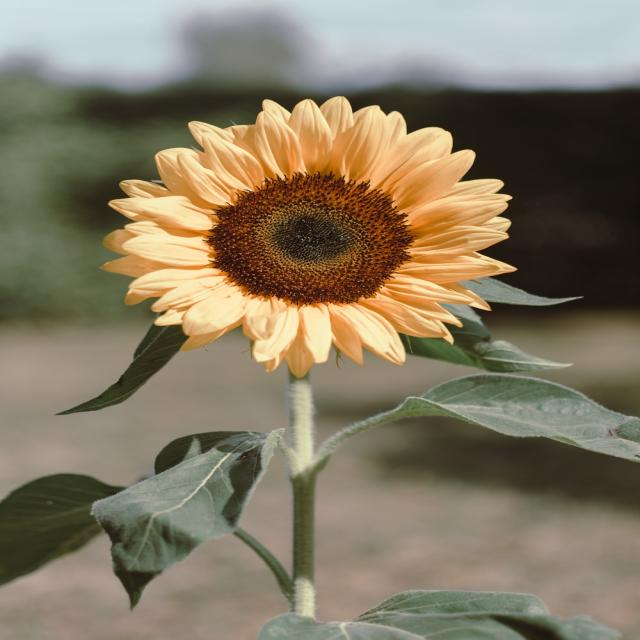sunflower: (88, 88, 529, 381)
